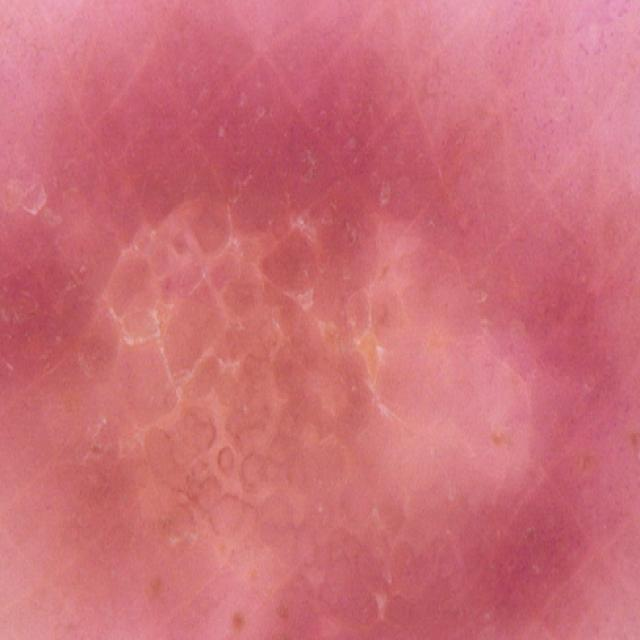Dermatofibroma: (42, 150, 574, 640)
